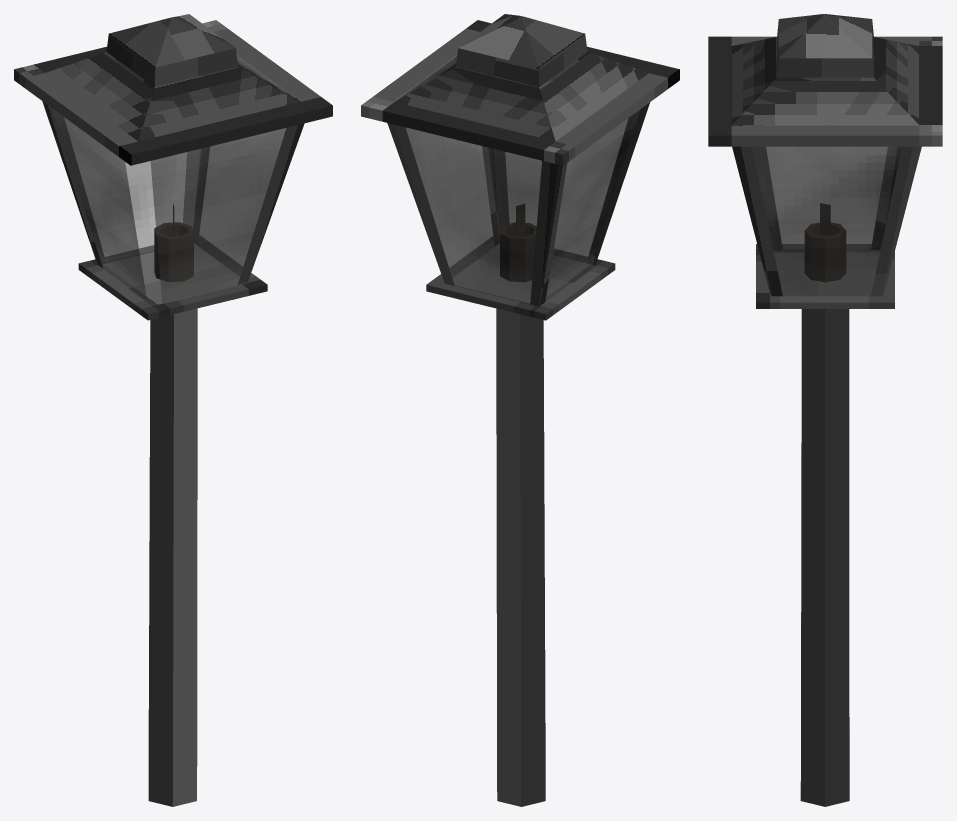
Rendered from lamp_post_889x07.gltf.
3 renders of one model, left to right at view 1: azimuth 30°, elevation 25°; view 2: azimuth 150°, elevation 25°; view 3: azimuth 270°, elevation 25°, orthographic.
Visible parts, largest first — view 1: lamp_post_889x07; view 2: lamp_post_889x07; view 3: lamp_post_889x07.
Part boxes in pixels (x1,y1,x2,y2): lamp_post_889x07: (14,14,332,806); lamp_post_889x07: (361,14,679,806); lamp_post_889x07: (708,14,942,806).
Size of the model in its own units: 2 by 7.35 by 2.
2 materials, 2 textured.
